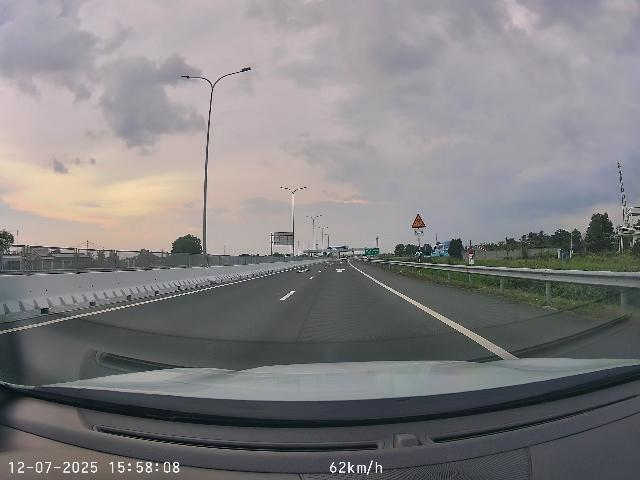245-di-cham: (411, 214, 426, 228)
